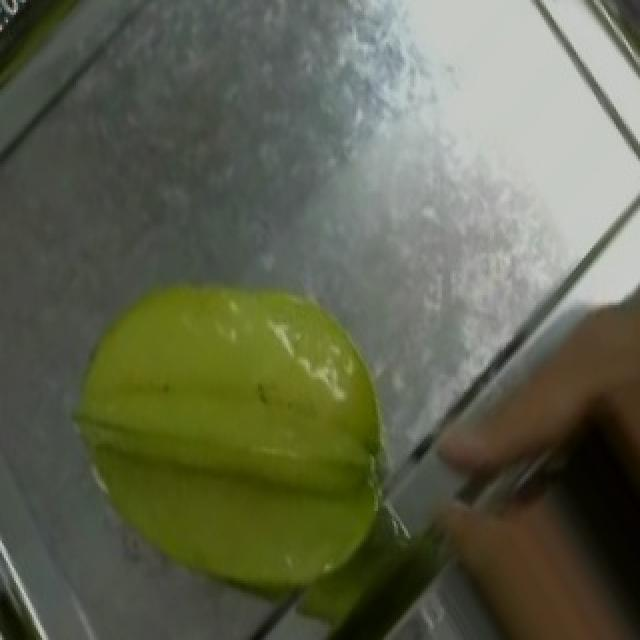fruit: (0, 193, 468, 640), (532, 243, 640, 504)
